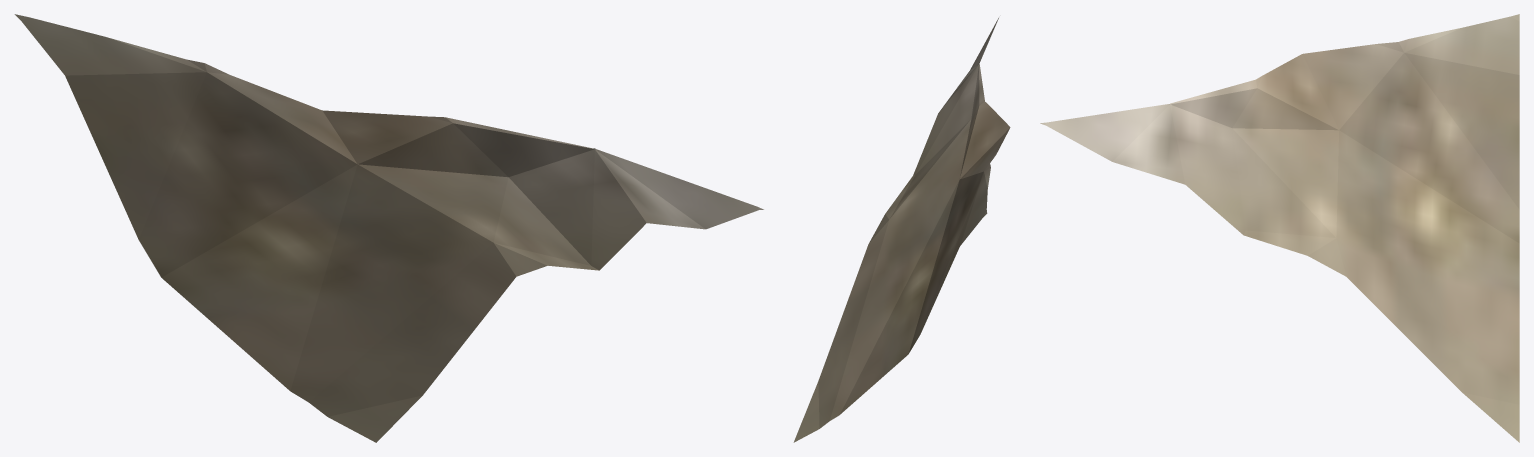
3 views of the same model, side by side, from view 1: azimuth 30°, elevation 25°; view 2: azimuth 150°, elevation 25°; view 3: azimuth 270°, elevation 25° (orthographic). The views are drawn at different scales.
Size of the model in its own units: 0.2745 by 0.3746 by 0.51.
1 material, 1 textured.
